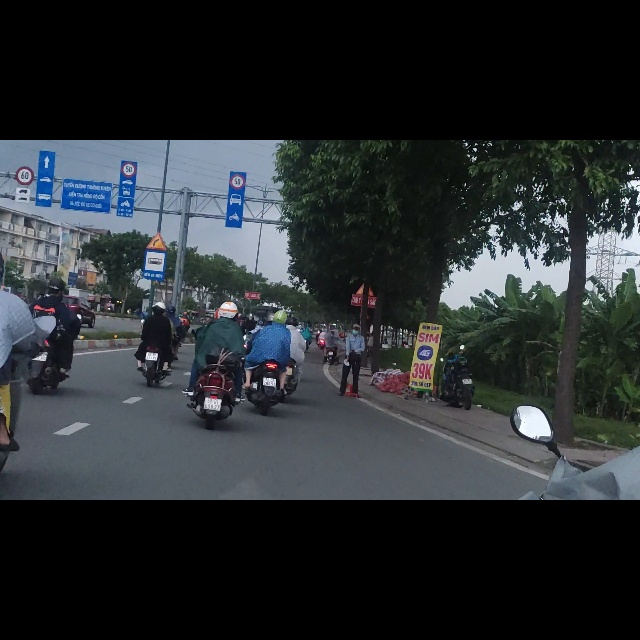bien_nguy_hiem: (143, 196, 166, 248), (146, 163, 166, 197), (16, 46, 34, 80), (229, 60, 245, 88), (121, 39, 136, 66), (15, 84, 30, 111)
